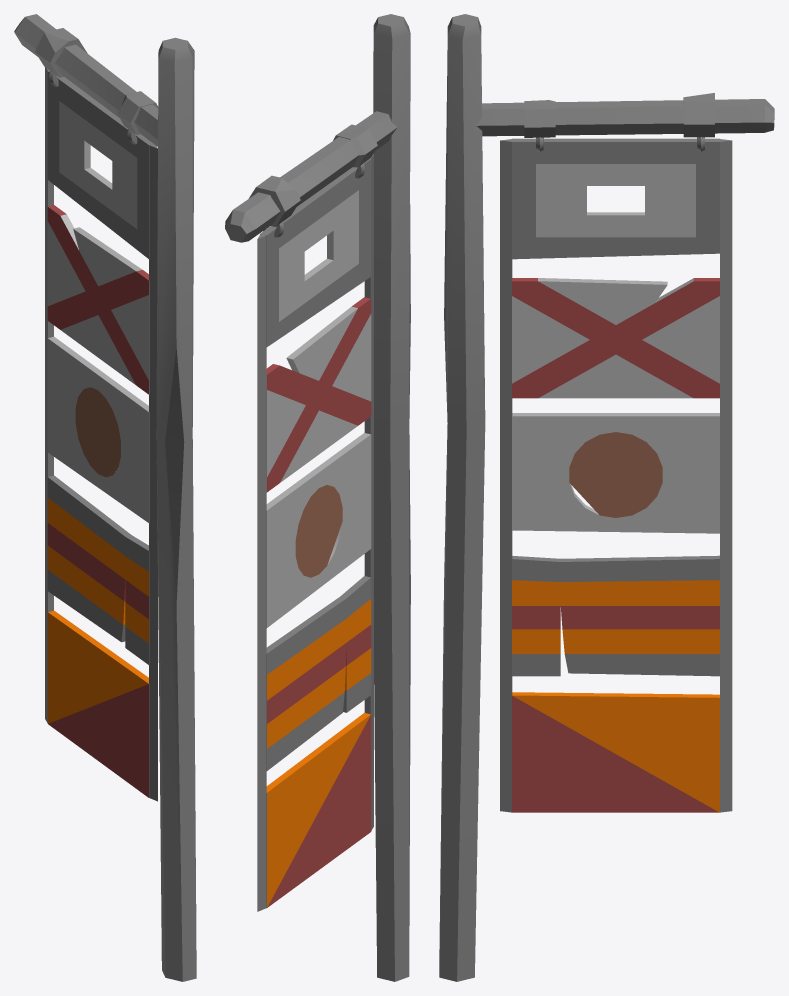
File: prop_39.FBX
3 views of the same model, side by side, from view 1: azimuth 30°, elevation 25°; view 2: azimuth 150°, elevation 25°; view 3: azimuth 270°, elevation 25° (orthographic). The views are drawn at different scales.
Visible parts, largest first — view 1: prop_39; view 2: prop_39; view 3: prop_39.
Boxes of the visible parts, bbox=[...] form: prop_39: bbox=[14, 14, 196, 981]; prop_39: bbox=[225, 14, 410, 981]; prop_39: bbox=[439, 14, 774, 981].
Size of the model in its own units: 6.9 by 162 by 51.77.
